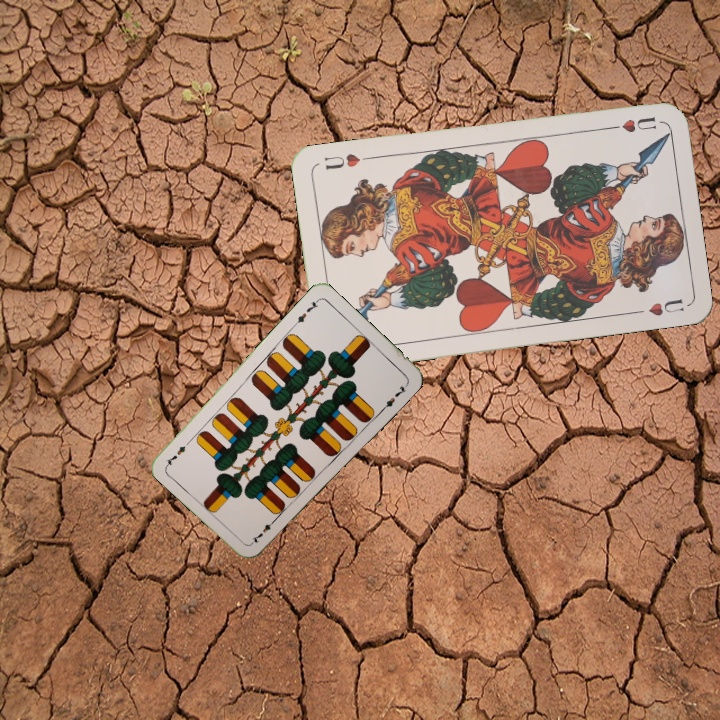E7: (290, 296, 322, 329), (248, 514, 280, 546)
HU: (603, 112, 659, 135)
